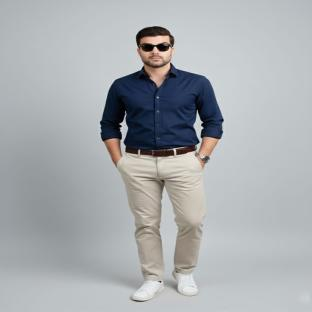Human: (100, 27, 223, 301)
